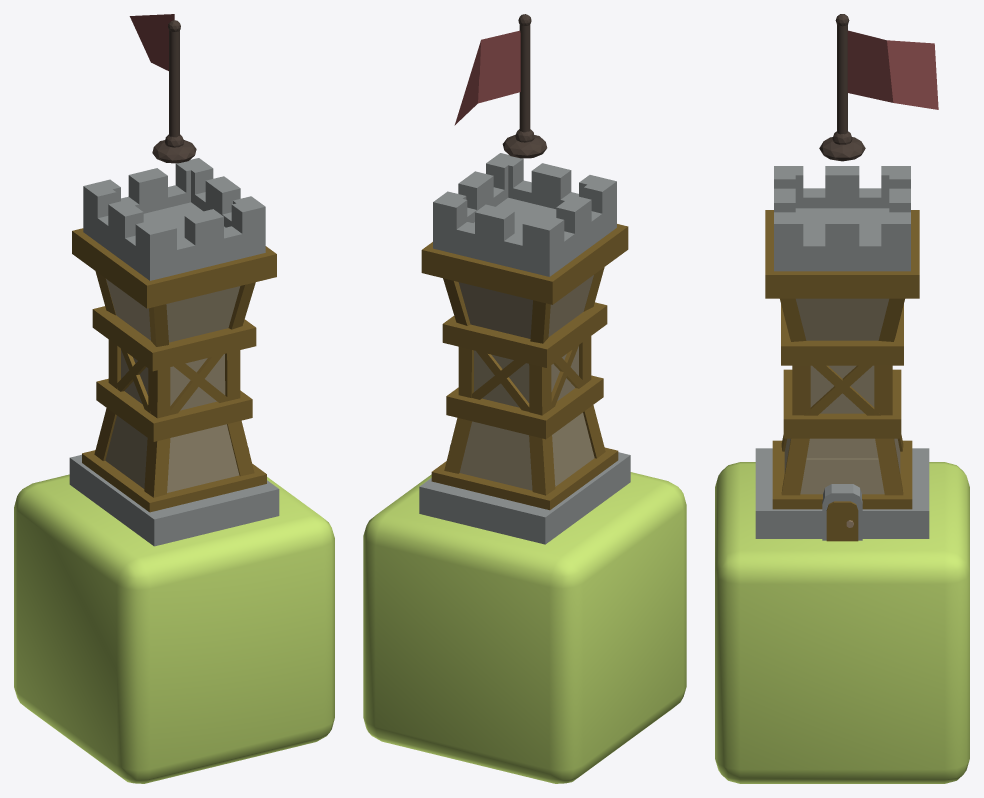
File: gate.fbx
3 renders of one model, left to right at view 1: azimuth 30°, elevation 25°; view 2: azimuth 150°, elevation 25°; view 3: azimuth 270°, elevation 25°, orthographic. The views are drawn at different scales.
Parts seen in each view (by area): view 1: Cube.130, Cube.142, Cube.132, Cube.131, Cube.135, Cube.136, Cube.133, Cube.158, Cube.151, Cube.152, Cube.147, Plane (+3 smaller); view 2: Cube.130, Cube.142, Cube.132, Cube.131, Cube.135, Cube.136, Cube.133, Plane, Cube.158, Cube.151, Cube.152, Cube.147 (+3 smaller); view 3: Cube.130, Cube.142, Cube.132, Cube.131, Plane, Cube.135, Cube.133, Cube.136, Cube.158, Cube.151, Cube.152, Cube.147 (+6 smaller).
Boxes of the visible parts, x1,y1,x2,y2 form: Cube.130: (14, 474, 334, 783); Cube.142: (83, 158, 265, 280); Cube.132: (105, 279, 240, 492); Cube.131: (69, 454, 279, 546); Cube.135: (72, 228, 276, 308); Cube.136: (92, 306, 256, 371); Cube.133: (96, 378, 252, 441); Cube.158: (82, 450, 266, 512); Cube.151: (94, 408, 254, 497); Cube.152: (108, 339, 240, 418); Cube.147: (95, 271, 255, 346); Plane: (129, 14, 174, 70); Cube.130: (363, 472, 686, 783); Cube.142: (433, 153, 616, 276); Cube.132: (458, 275, 594, 490); Cube.131: (419, 452, 630, 544); Cube.135: (421, 224, 628, 304); Cube.136: (442, 302, 607, 367); Cube.133: (446, 375, 603, 439); Plane: (454, 30, 520, 125); Cube.158: (431, 447, 618, 510); Cube.151: (444, 405, 605, 495); Cube.152: (458, 336, 591, 415); Cube.147: (443, 267, 604, 343); Cube.130: (715, 462, 969, 783); Cube.142: (774, 166, 910, 271); Cube.132: (784, 298, 900, 494); Cube.131: (755, 448, 929, 538); Plane: (847, 30, 938, 109); Cube.135: (765, 210, 919, 298); Cube.133: (783, 369, 901, 438); Cube.136: (781, 304, 903, 365); Cube.158: (772, 440, 912, 509); Cube.151: (781, 435, 903, 495); Cube.152: (792, 365, 892, 415); Cube.147: (780, 298, 904, 341).
Size of the model in its own units: 200 by 627 by 200.
